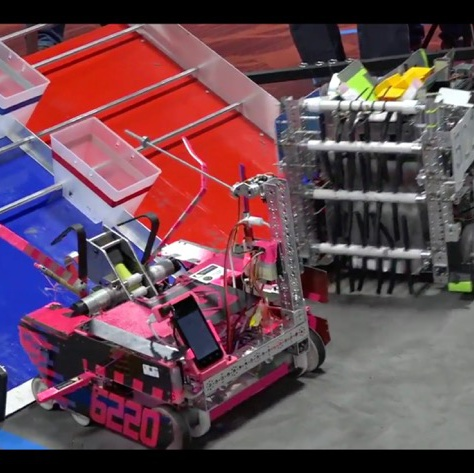robot: (22, 151, 331, 449), (275, 54, 474, 307)
